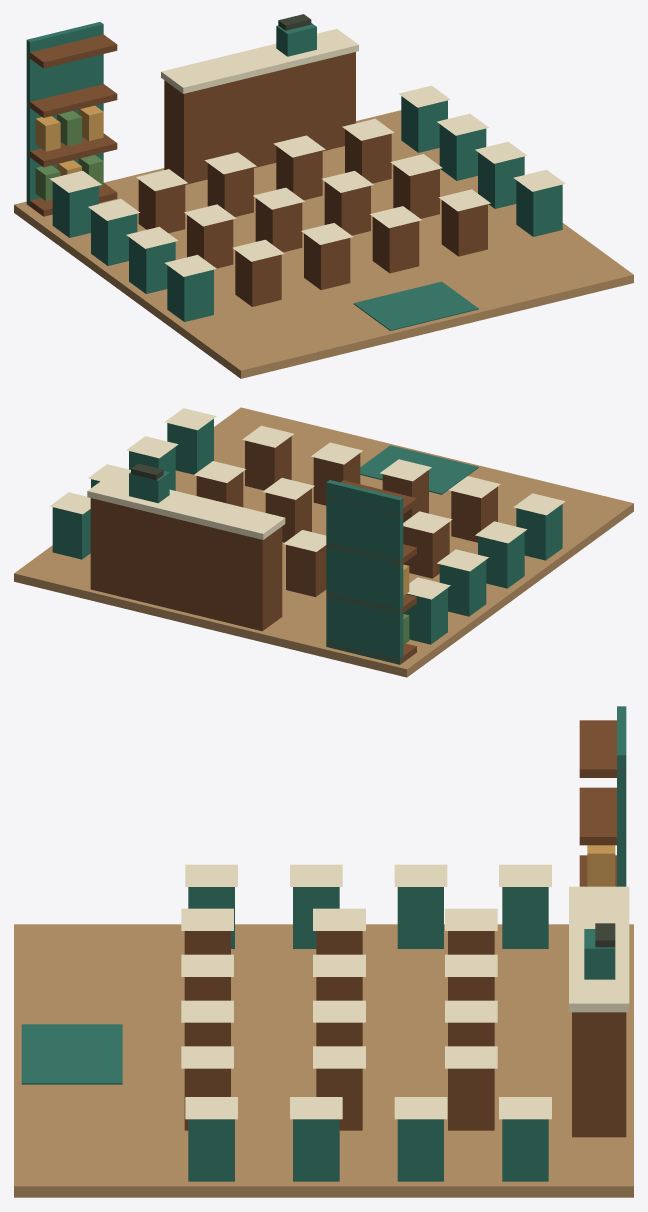
Rendered from floor.glb.
3 views of the same model, one above another, from view 1: azimuth 30°, elevation 25°; view 2: azimuth 150°, elevation 25°; view 3: azimuth 270°, elevation 25° (orthographic). The views are drawn at different scales.
Parts seen in each view (by area): view 1: floor; view 2: floor; view 3: floor.
Part boxes in pixels (x1,y1,x2,y2): floor: (14, 14, 633, 378); floor: (14, 407, 633, 677); floor: (14, 706, 633, 1197).
Size of the model in its own units: 4 by 1.68 by 4.
1 material, 1 textured.
